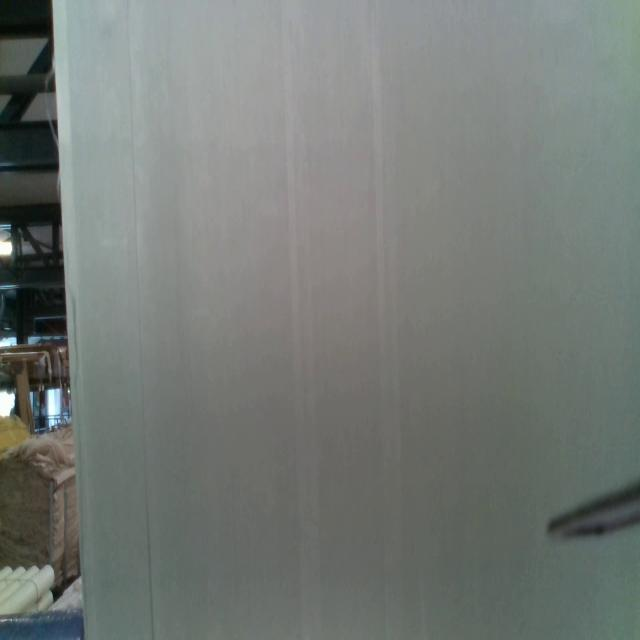crease: (126, 0, 156, 639)
